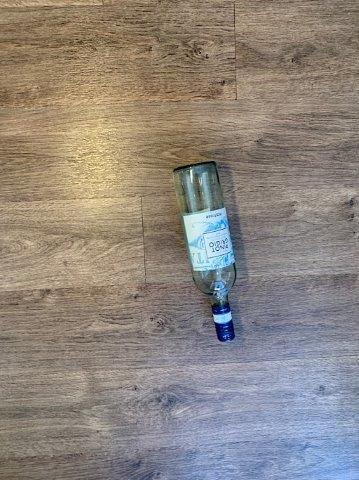botolkaca: (174, 161, 237, 341)
